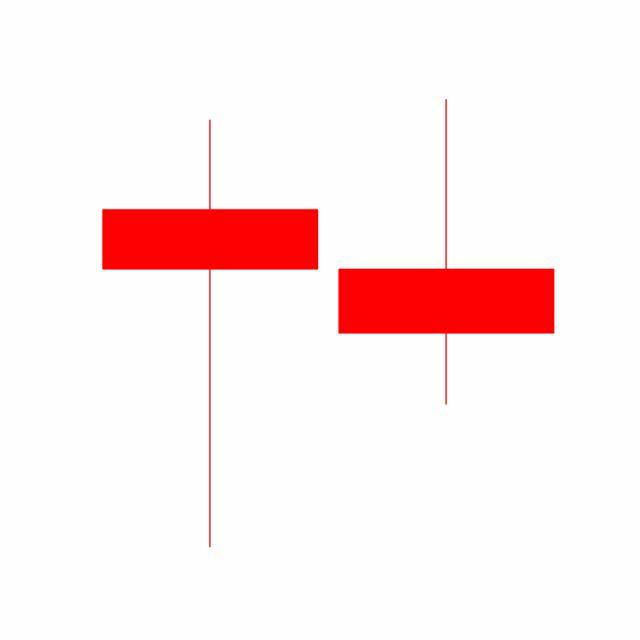Spinning Top: (328, 96, 566, 409)
